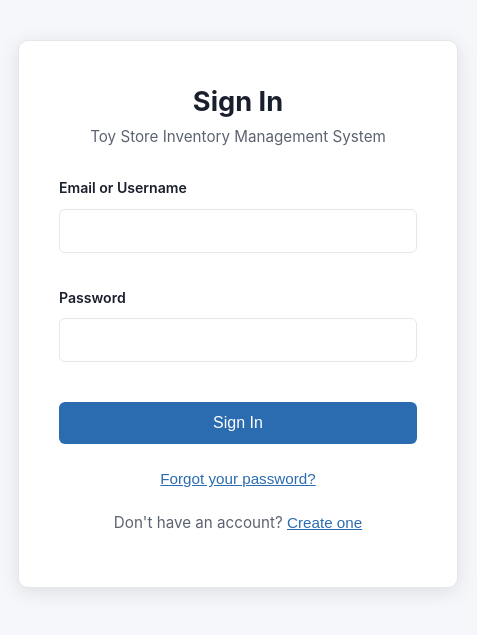
Test: Login Page › shows API error message on login failure
The image size is (477, 635).
Type "wrong" into the field labelled "Email or Username" at point(238, 231), box [59,209,417,253]
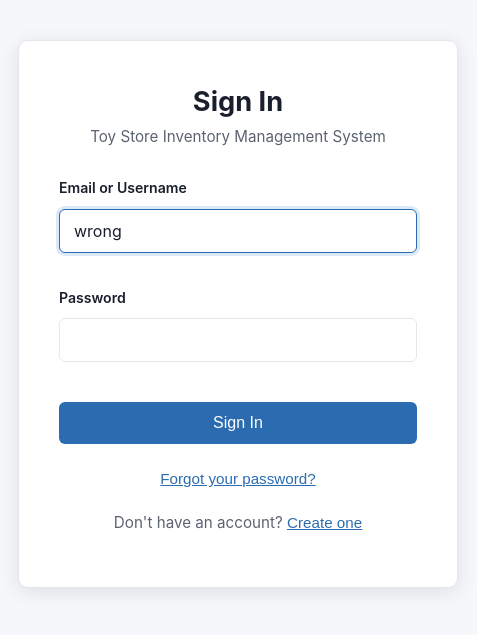
Type "wrongpass" into the password field labelled "Password" at point(238, 340), box [59,318,417,362]
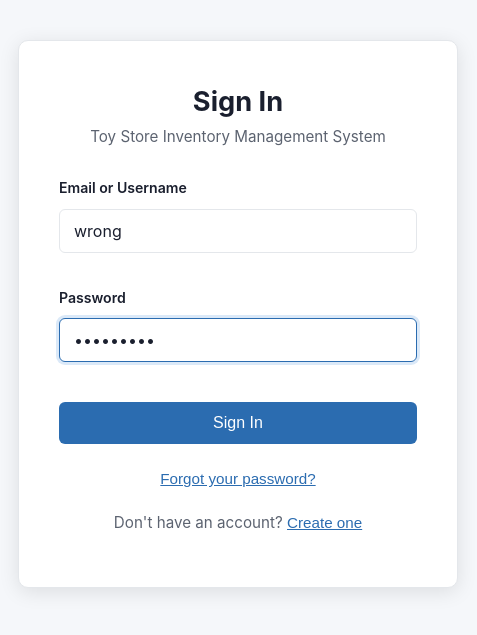
Click the button "Sign In" at point(238, 423), box [59,402,417,444]
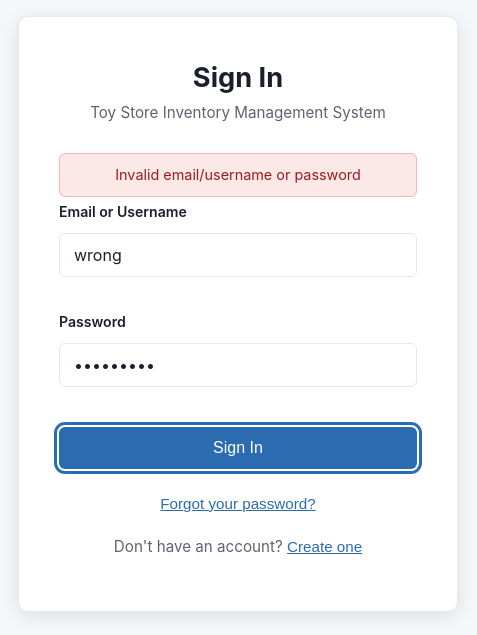
Expected: the message reads "Invalid email/username or password", [115,166,361,183]
